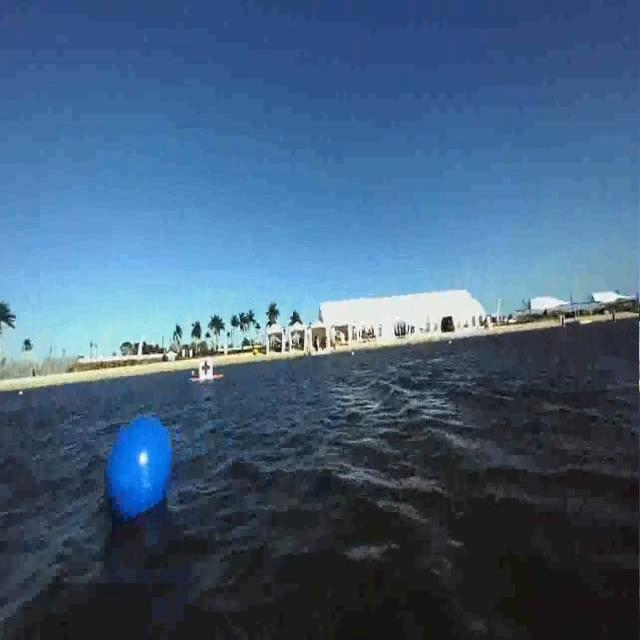blue-buoy: (103, 409, 175, 523)
